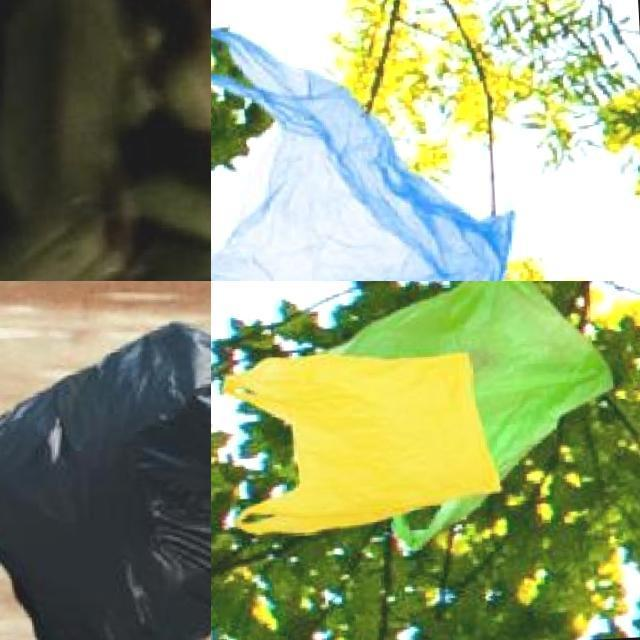waste: (211, 17, 518, 281), (356, 281, 634, 551), (0, 313, 211, 640), (220, 342, 508, 550)
